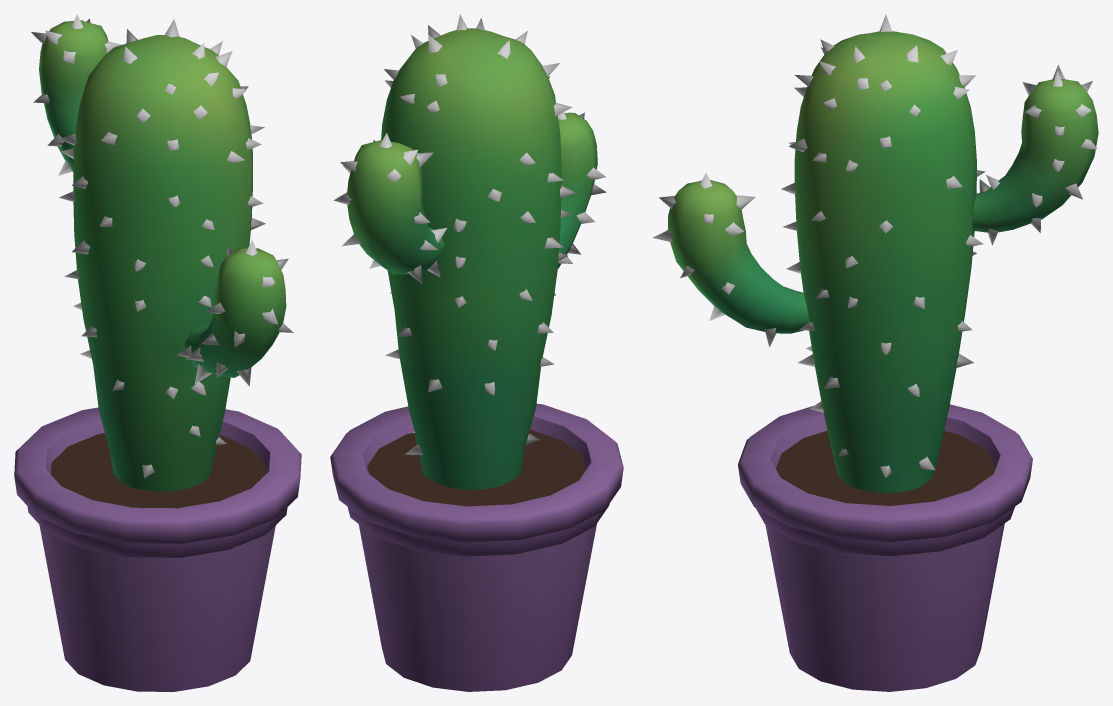
Rendered from cactus_02.fbx.
The picture shows the model from 3 angles, left to right: view 1: azimuth 30°, elevation 25°; view 2: azimuth 150°, elevation 25°; view 3: azimuth 270°, elevation 25°; orthographic projection.
Parts seen in each view (by area): view 1: cactus_01, Object1034; view 2: cactus_01, Object1034; view 3: cactus_01, Object1034.
Part boxes in pixels (box(x1,y1,x2,y2)): cactus_01: box(14, 20, 301, 691); Object1034: box(31, 14, 293, 478); cactus_01: box(330, 28, 623, 691); Object1034: box(333, 14, 606, 454); cactus_01: box(668, 31, 1098, 691); Object1034: box(652, 14, 1097, 477).
Size of the model in its own units: 45.56 by 106 by 68.89.
